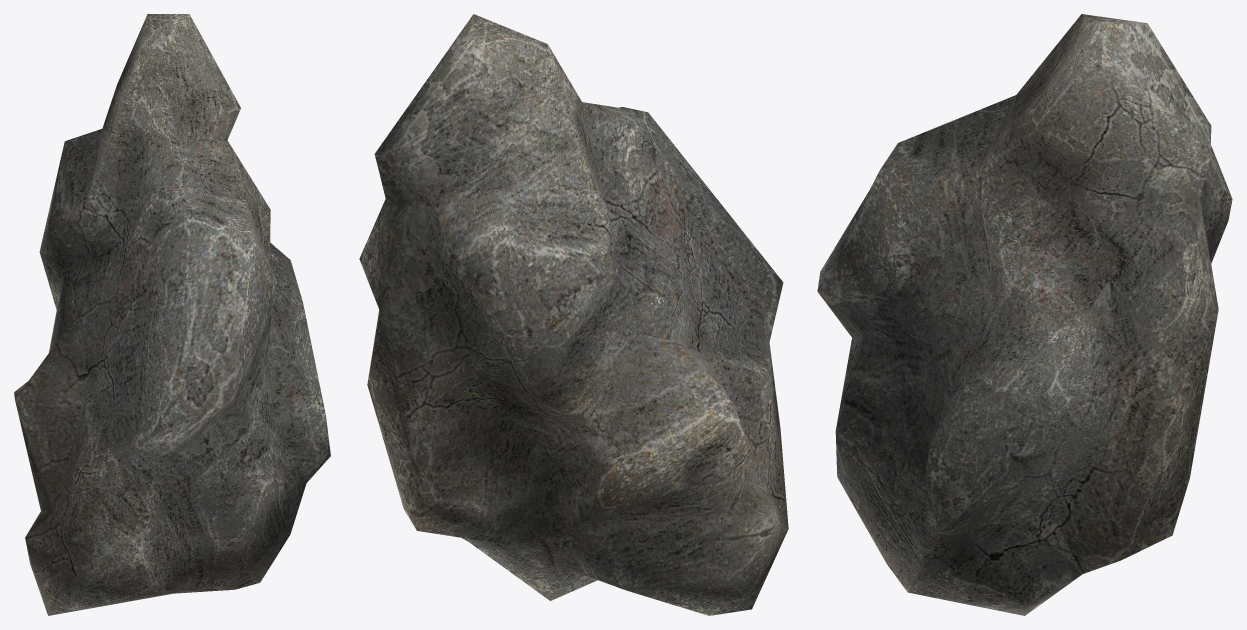
The model's file is Rock2.FBX.
3 renders of one model, left to right at view 1: azimuth 30°, elevation 25°; view 2: azimuth 150°, elevation 25°; view 3: azimuth 270°, elevation 25°, orthographic. The views are drawn at different scales.
Visible parts, largest first — view 1: ddftt; view 2: ddftt; view 3: ddftt.
Part boxes in pixels (bbox=[...]): ddftt: bbox=[14, 14, 330, 615]; ddftt: bbox=[359, 14, 788, 615]; ddftt: bbox=[817, 14, 1232, 615].
Bounding box in the file's own units: 527 × 904 × 557.
Materials: 1 (1 with a texture image).
